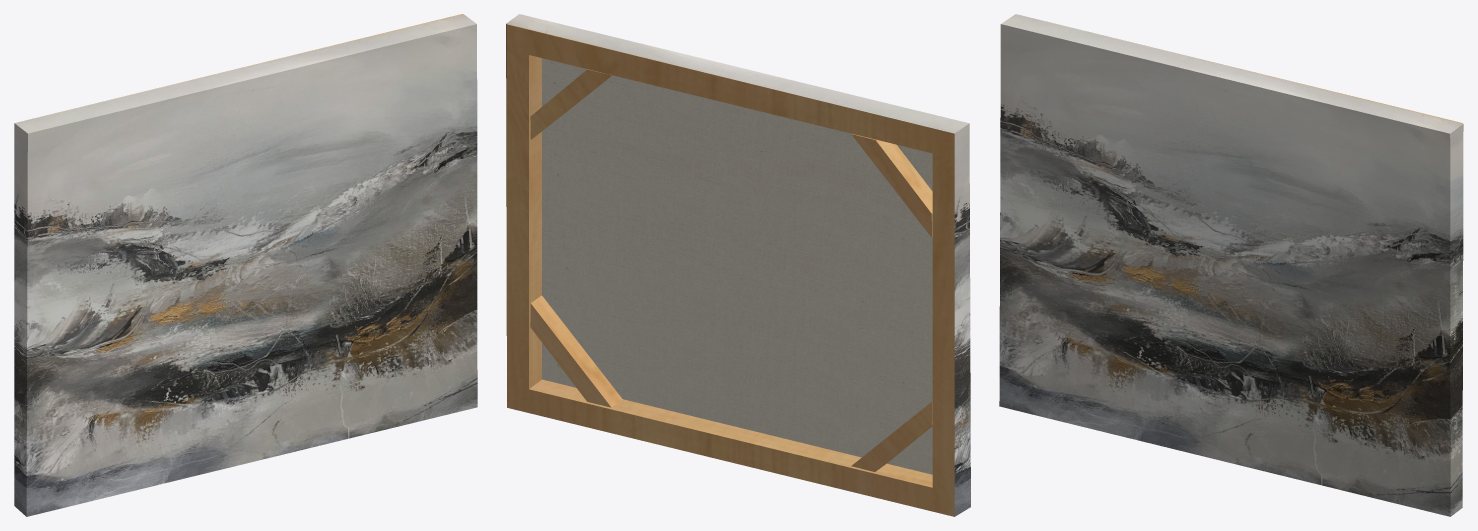
The model's file is Picture 2.FBX.
3 renders of one model, left to right at view 1: azimuth 30°, elevation 25°; view 2: azimuth 150°, elevation 25°; view 3: azimuth 330°, elevation 25°, orthographic.
Visible parts, largest first — view 1: picture 2; view 2: picture 2; view 3: picture 2.
Boxes of the visible parts, x1=… form: picture 2: x1=14, y1=14, x2=477, y2=516; picture 2: x1=506, y1=14, x2=970, y2=516; picture 2: x1=999, y1=14, x2=1463, y2=516.
Bounding box in the file's own units: 74.59 × 60.62 × 4.07.
